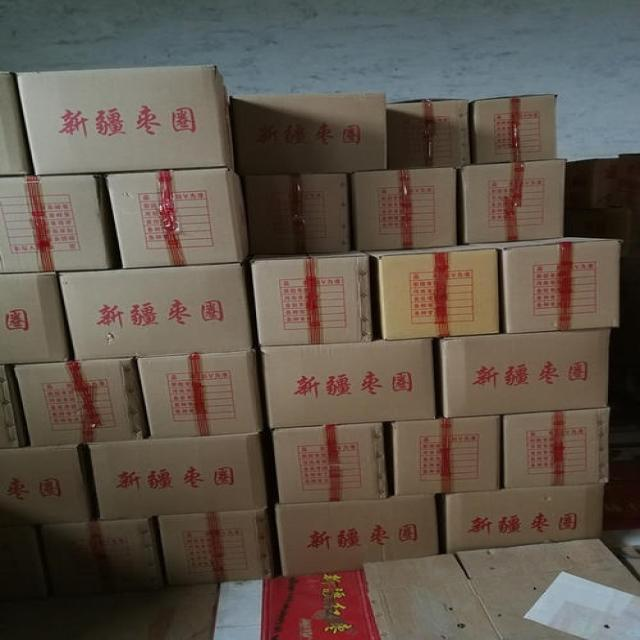box: (19, 66, 234, 176), (57, 261, 252, 360), (91, 431, 275, 518), (97, 168, 251, 271), (260, 339, 440, 426), (437, 328, 611, 415), (467, 235, 620, 332), (274, 493, 441, 575), (365, 242, 502, 340), (135, 347, 270, 436), (14, 356, 150, 444), (1, 175, 120, 275), (255, 248, 375, 345), (235, 92, 385, 169), (28, 517, 170, 597), (441, 483, 603, 553), (245, 169, 356, 256), (155, 507, 278, 584), (390, 413, 506, 494), (272, 422, 390, 501), (460, 158, 565, 243), (353, 165, 460, 248), (504, 407, 612, 487), (0, 440, 97, 525), (0, 270, 75, 367), (389, 99, 475, 168), (474, 94, 556, 164), (565, 156, 618, 237), (603, 417, 639, 524), (0, 72, 35, 175), (5, 523, 48, 600), (0, 366, 29, 446), (618, 153, 637, 240)
